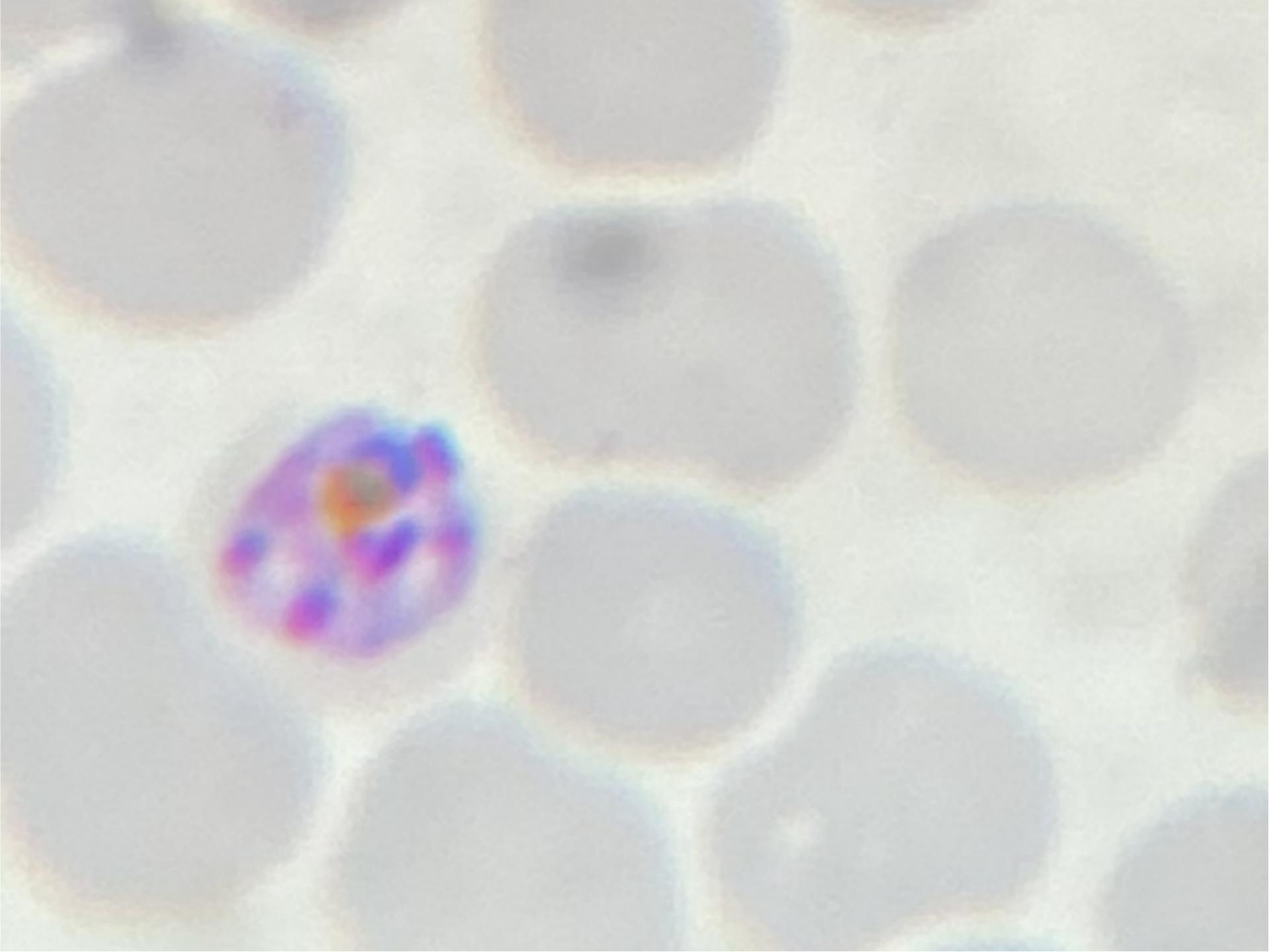Infected: (167, 382, 508, 707)
Uninfected: (0, 542, 329, 927), (0, 25, 388, 339), (471, 190, 858, 495), (705, 646, 1040, 952), (337, 701, 711, 952), (883, 199, 1196, 486), (511, 487, 805, 765)
